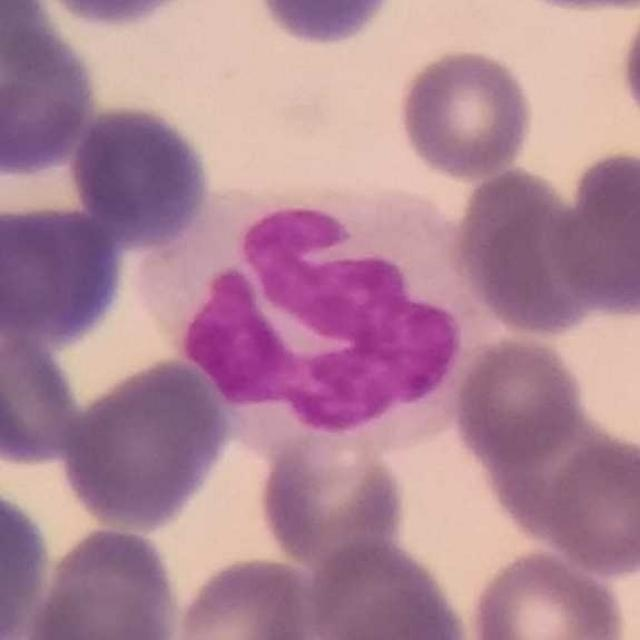Monocyte: (140, 177, 491, 469)
RBC: (55, 354, 234, 533), (448, 162, 604, 340), (252, 417, 408, 572), (66, 99, 214, 248), (393, 44, 538, 182), (21, 521, 185, 640), (0, 199, 129, 350), (448, 332, 588, 471), (303, 534, 474, 640), (0, 12, 100, 182), (546, 145, 640, 320), (464, 546, 631, 640), (541, 432, 640, 580), (166, 552, 322, 640), (0, 324, 86, 472), (19, 585, 180, 640), (0, 480, 53, 639), (250, 0, 401, 50), (23, 0, 207, 31), (615, 0, 640, 134), (498, 0, 638, 18)
